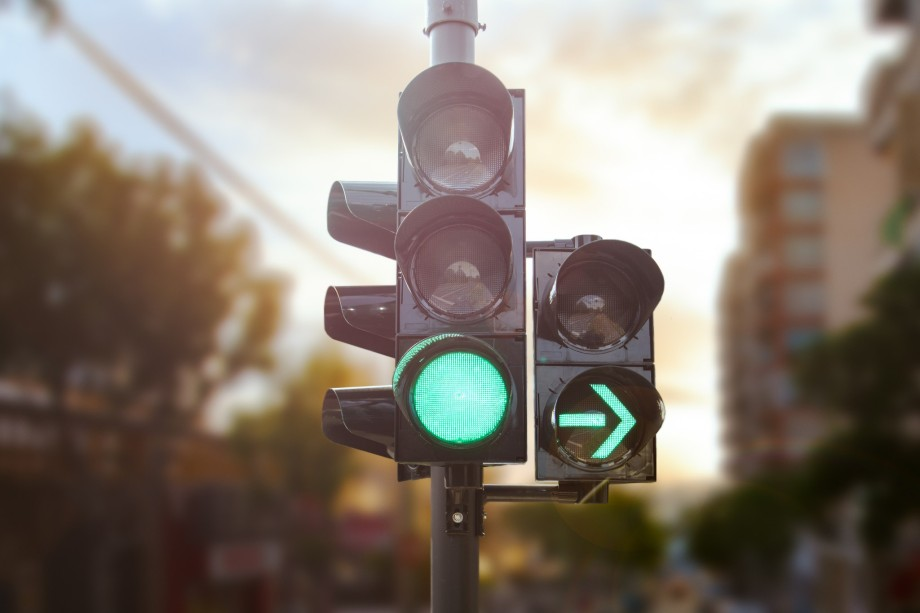TraficLight: (299, 59, 678, 510)
